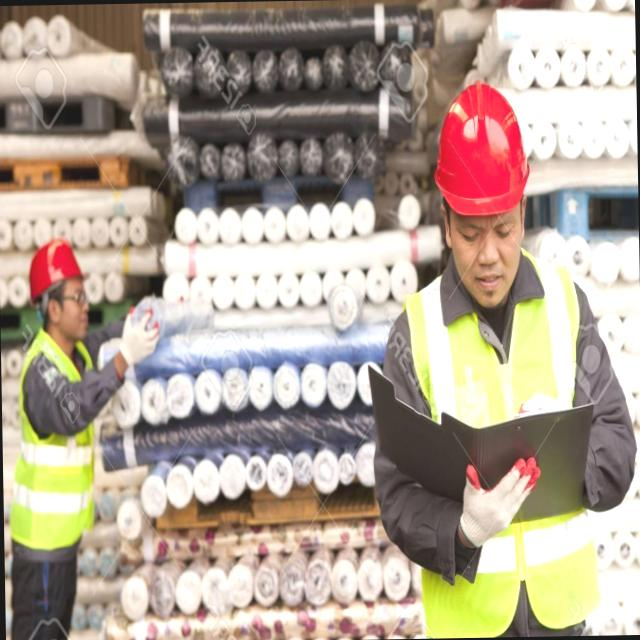helmet: (428, 77, 536, 223), (15, 233, 96, 312)
vest: (406, 274, 596, 638), (0, 342, 107, 548)
